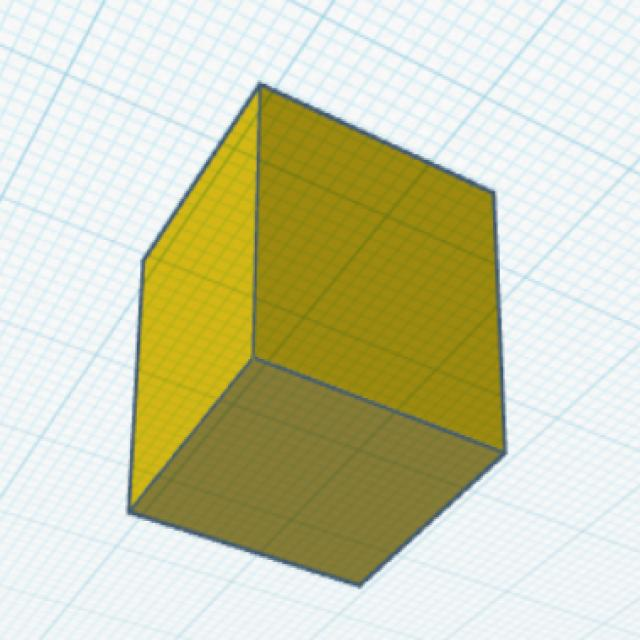cube: (124, 79, 512, 591)
